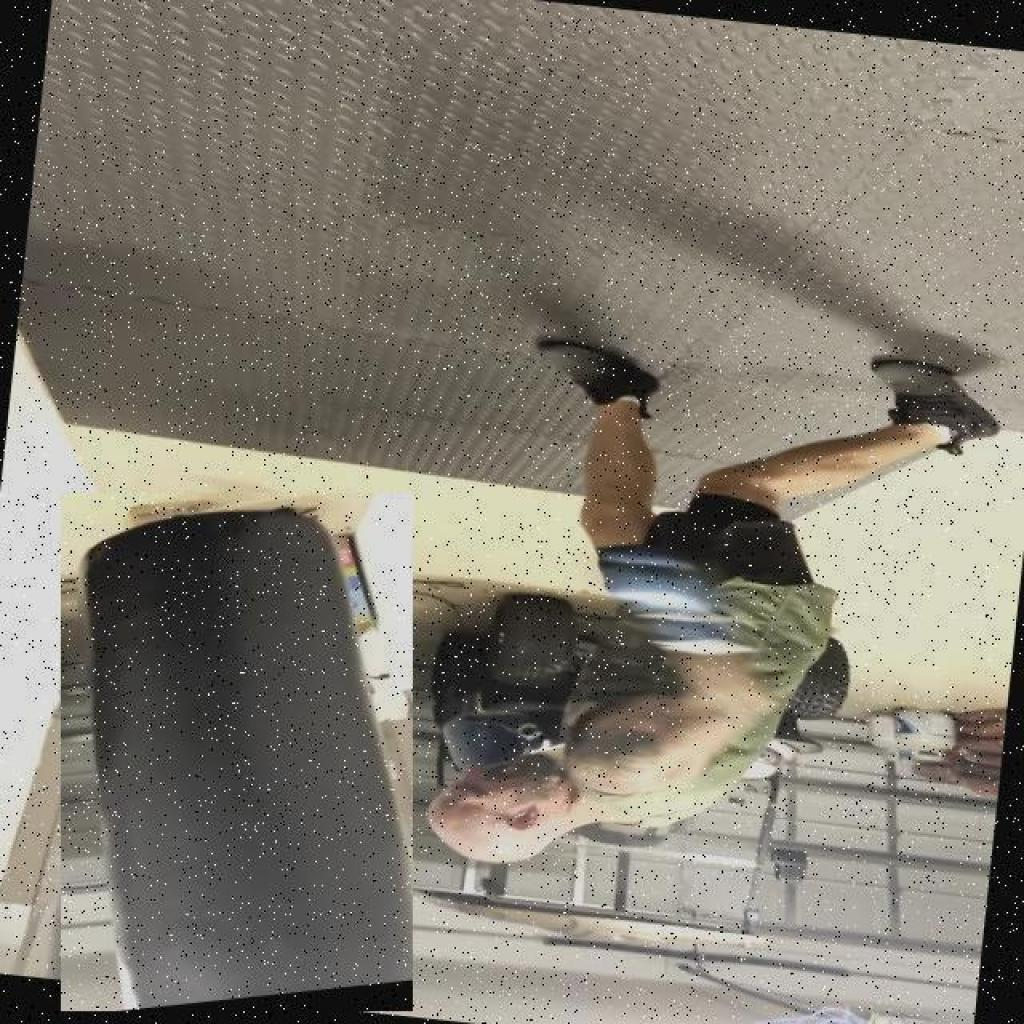bag: (61, 493, 412, 1012)
uppercut: (422, 520, 782, 910)
